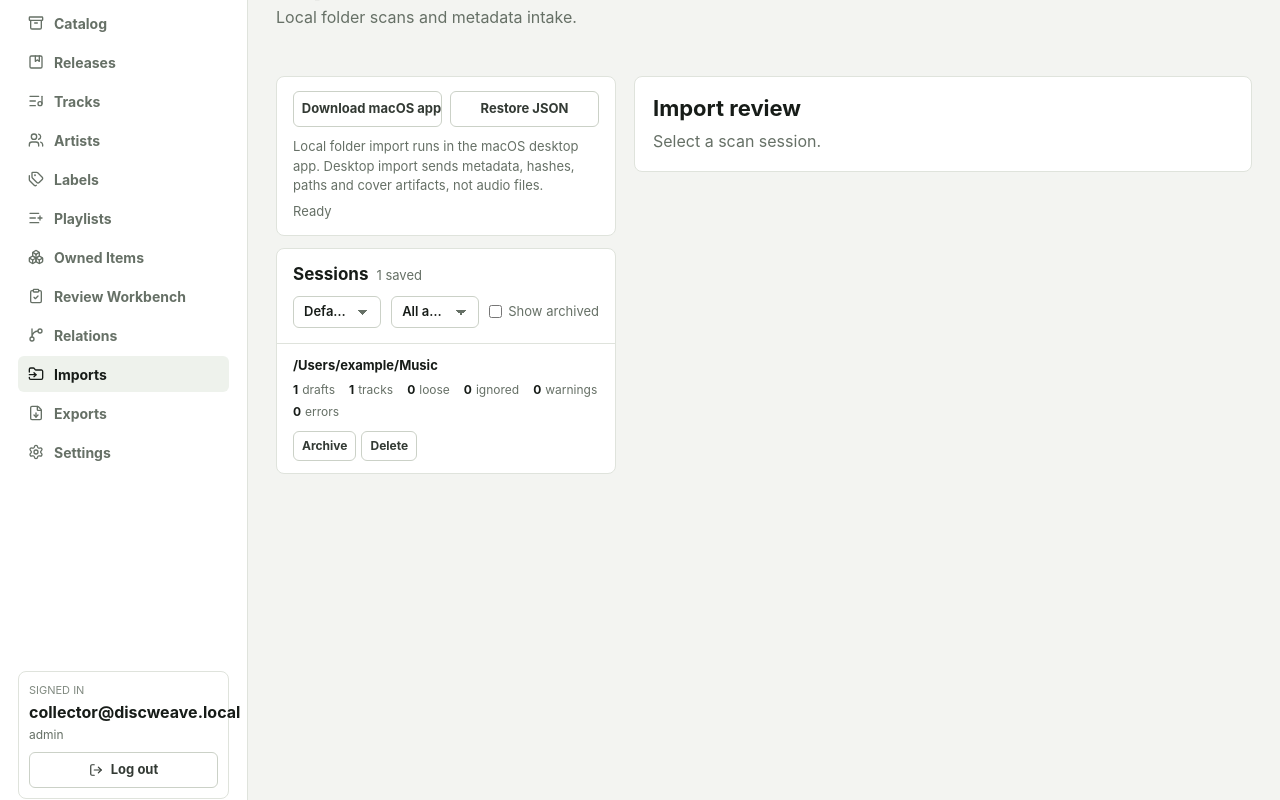
Test: App imports and exports › links an import row to an existing track found by catalog search
The image size is (1280, 800).
Click the button "/Users/example/Music".
click(365, 365)  # box [293,357,599,374]
(page scrolled)
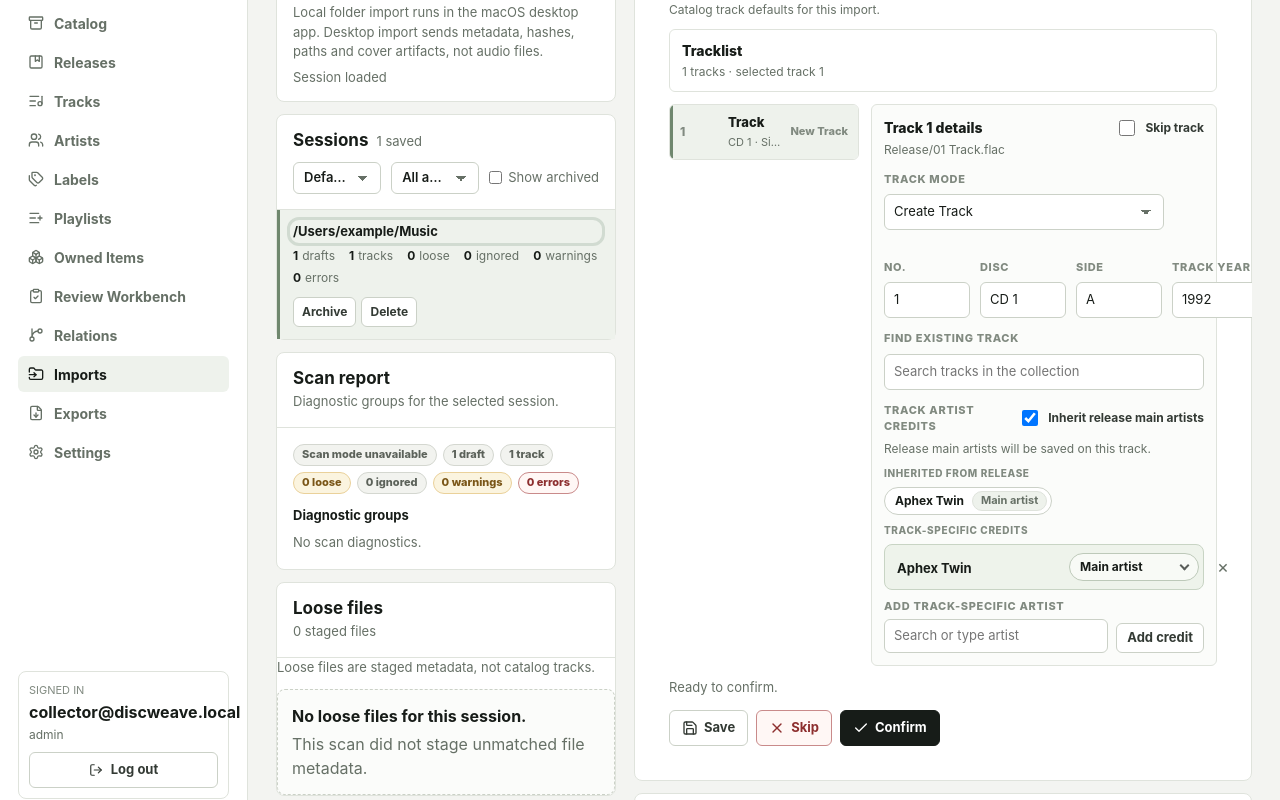
Click the field labelled "Find existing track".
click(1044, 372)  # box [884,354,1204,390]
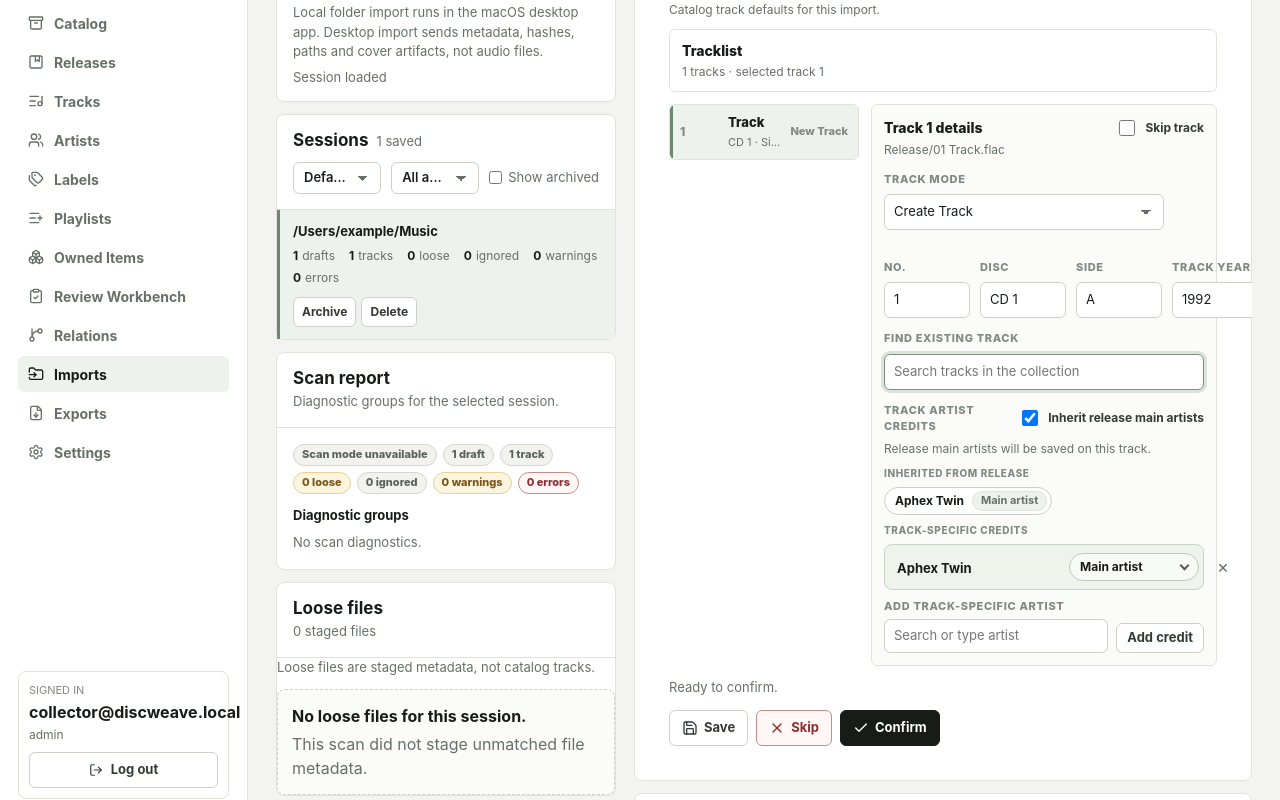
Type keys "Track"
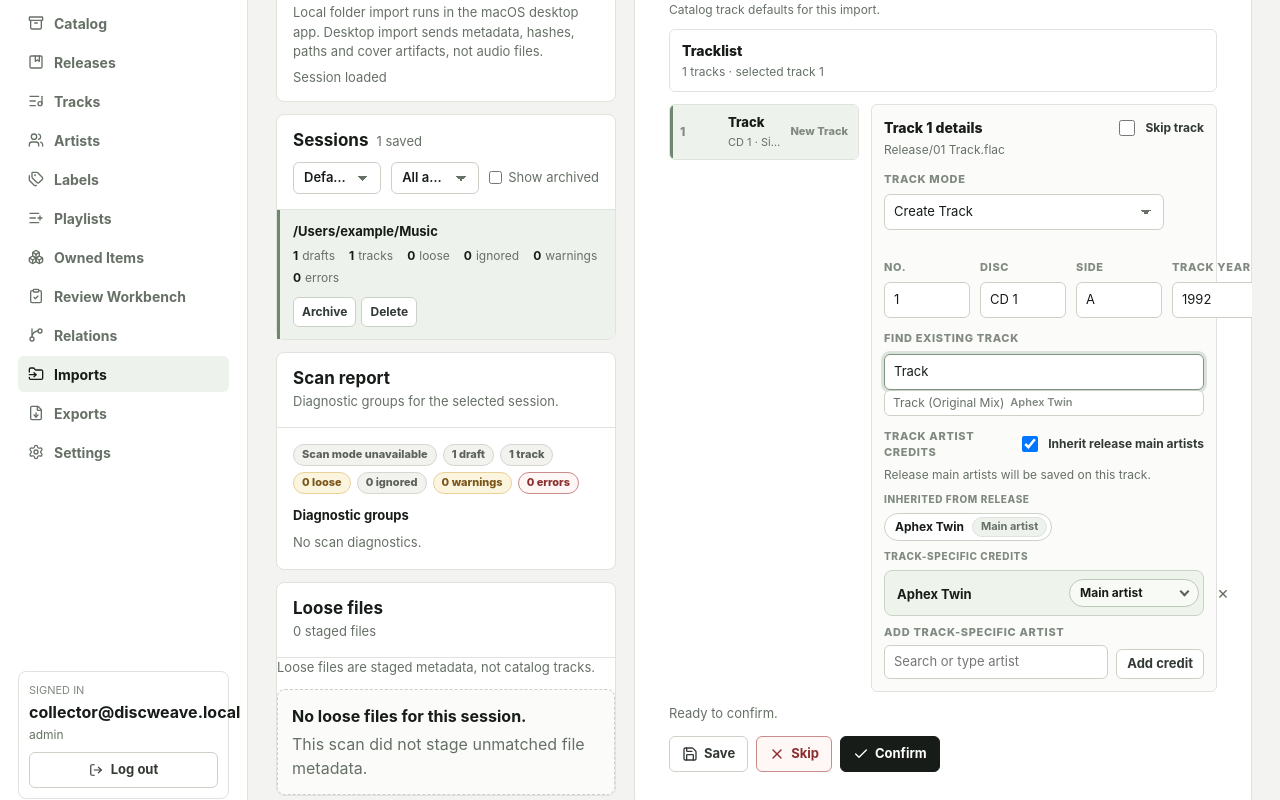
Click the button "Track (Original Mix) Aphex Twin".
click(1044, 403)  # box [884,390,1204,416]
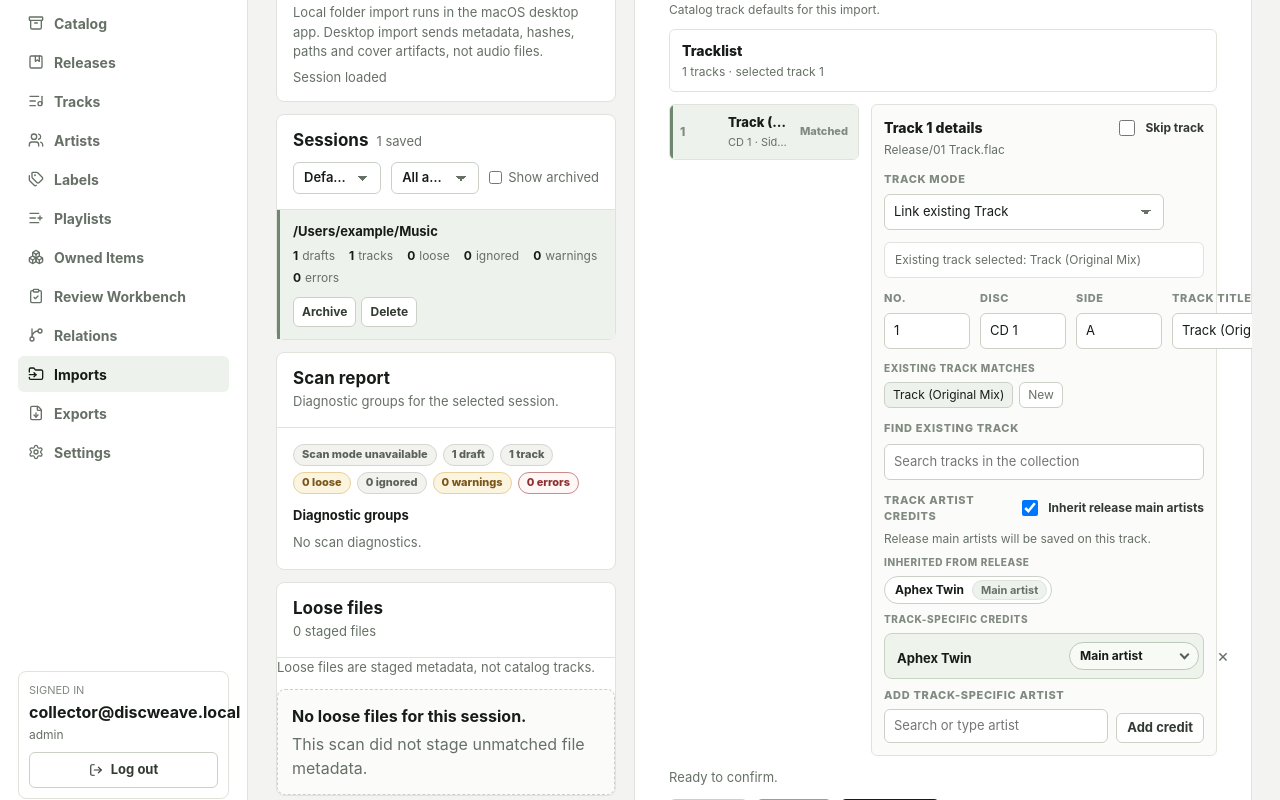
Now the text "Existing track selected: Track (Original Mix)" is shown, box [884,242,1204,278]
Now the field showing "Track (Original Mix)" is shown, box [1172,313,1252,349]
Now the dropdown labelled "Track mode" shows "Link existing Track", box [884,194,1164,230]
